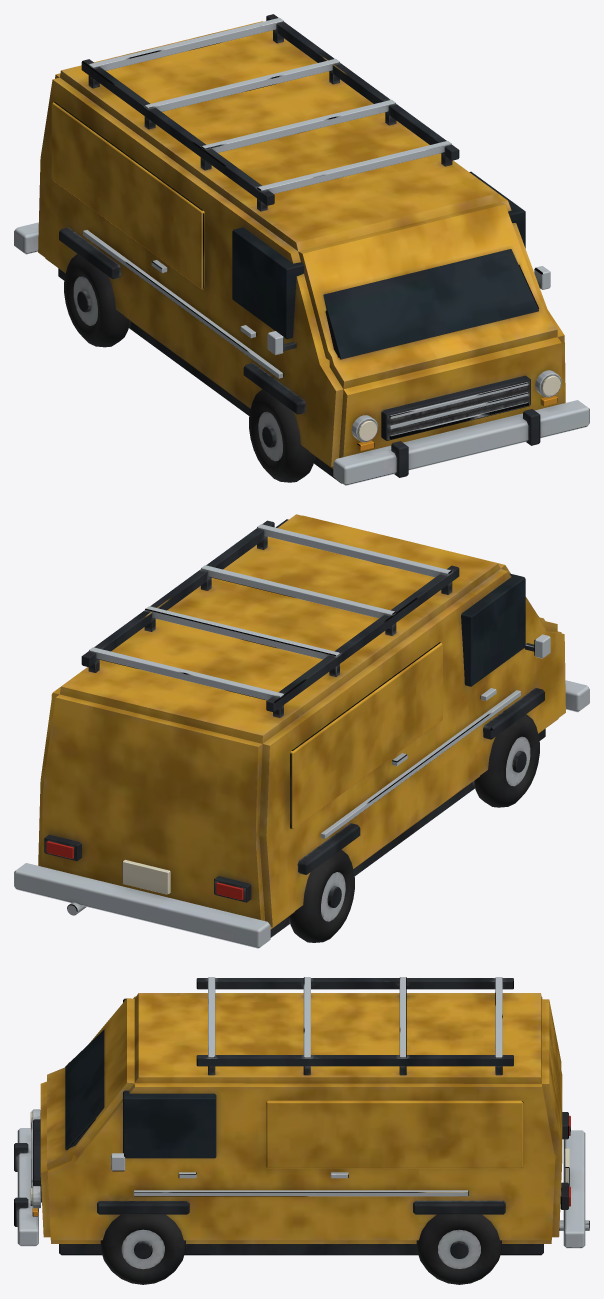
The model's file is car_van_cargo.glb.
3 views of the same model, one above another, from view 1: azimuth 30°, elevation 25°; view 2: azimuth 150°, elevation 25°; view 3: azimuth 270°, elevation 25° (orthographic). The views are drawn at different scales.
Parts seen in each view (by area): view 1: CarVanCargo; view 2: CarVanCargo; view 3: CarVanCargo.
Boxes of the visible parts, <box> form: CarVanCargo: <box>14,14,589,485</box>; CarVanCargo: <box>14,514,589,948</box>; CarVanCargo: <box>14,977,589,1284</box>.
Bounding box in the file's own units: 2.28 × 2.03 × 4.81.
Materials: 1 (1 with a texture image).
